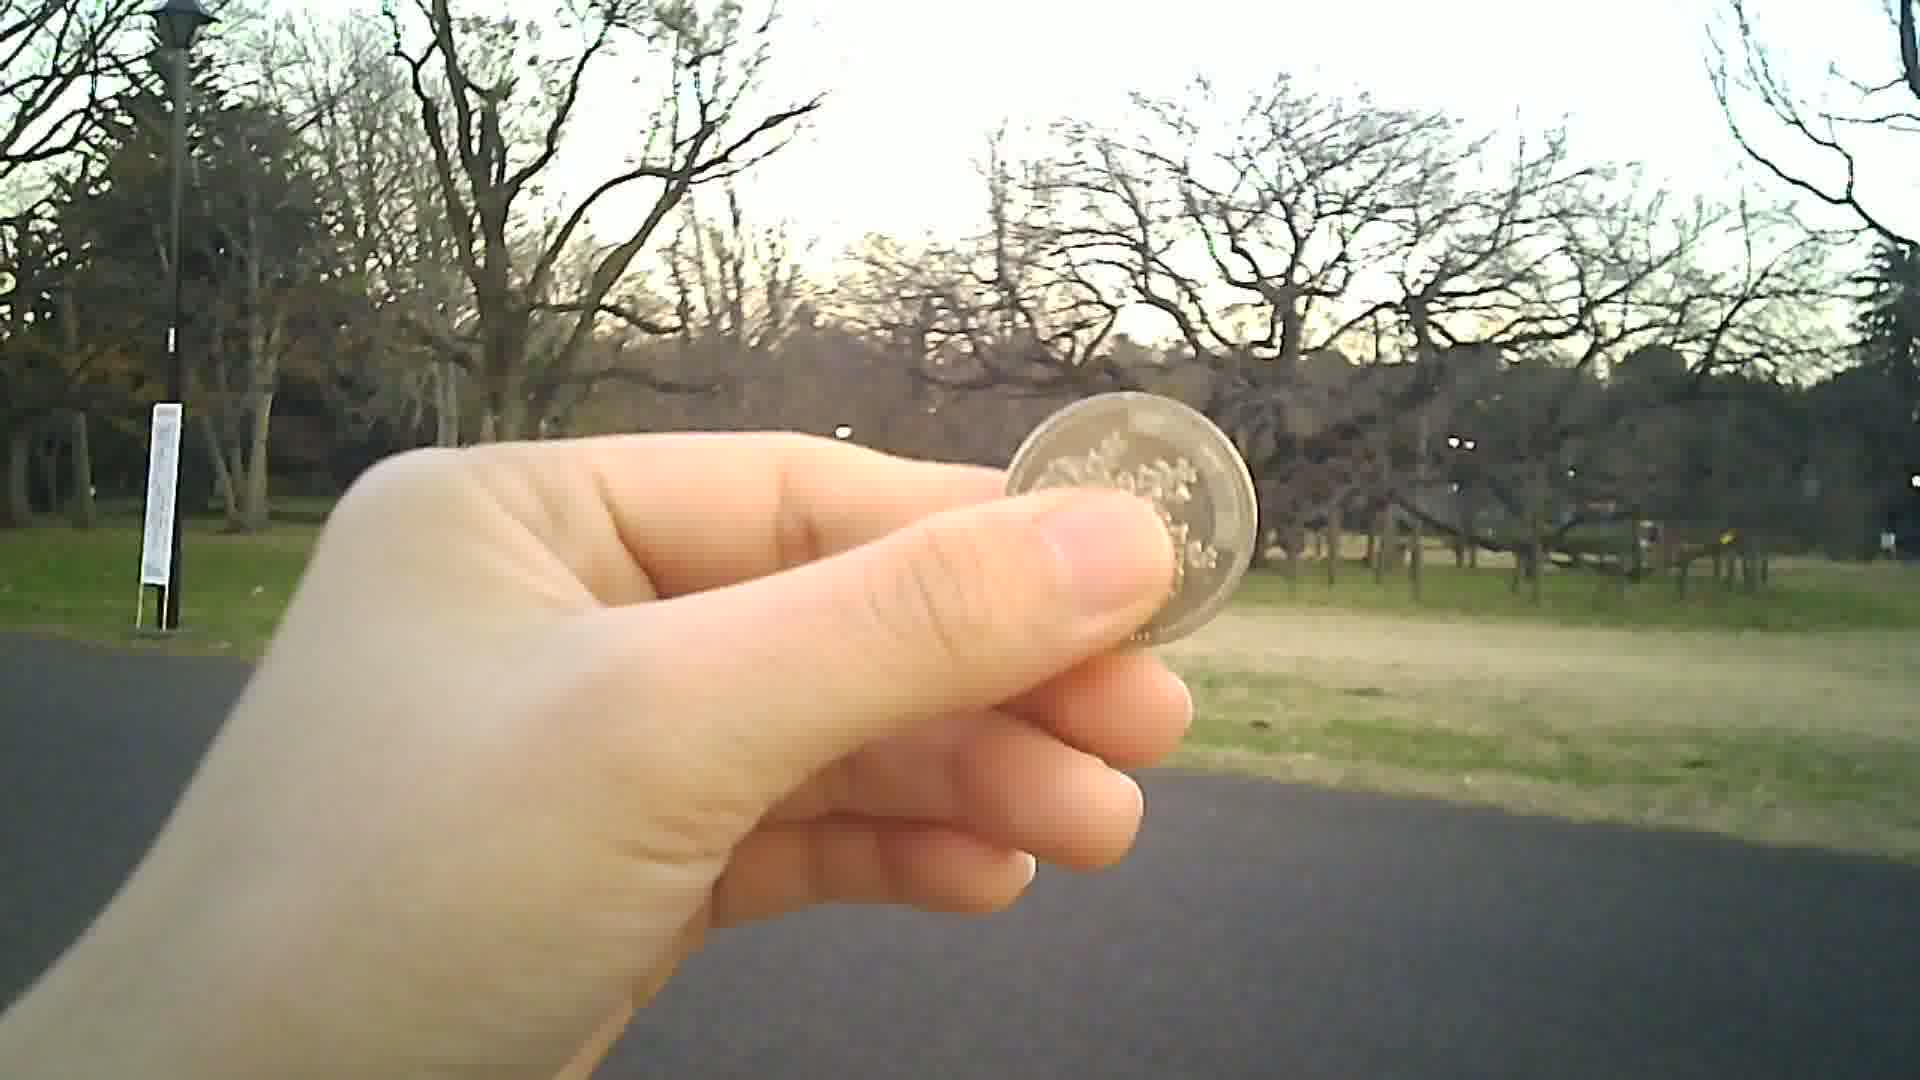500 Yen: (996, 382, 1261, 647)
